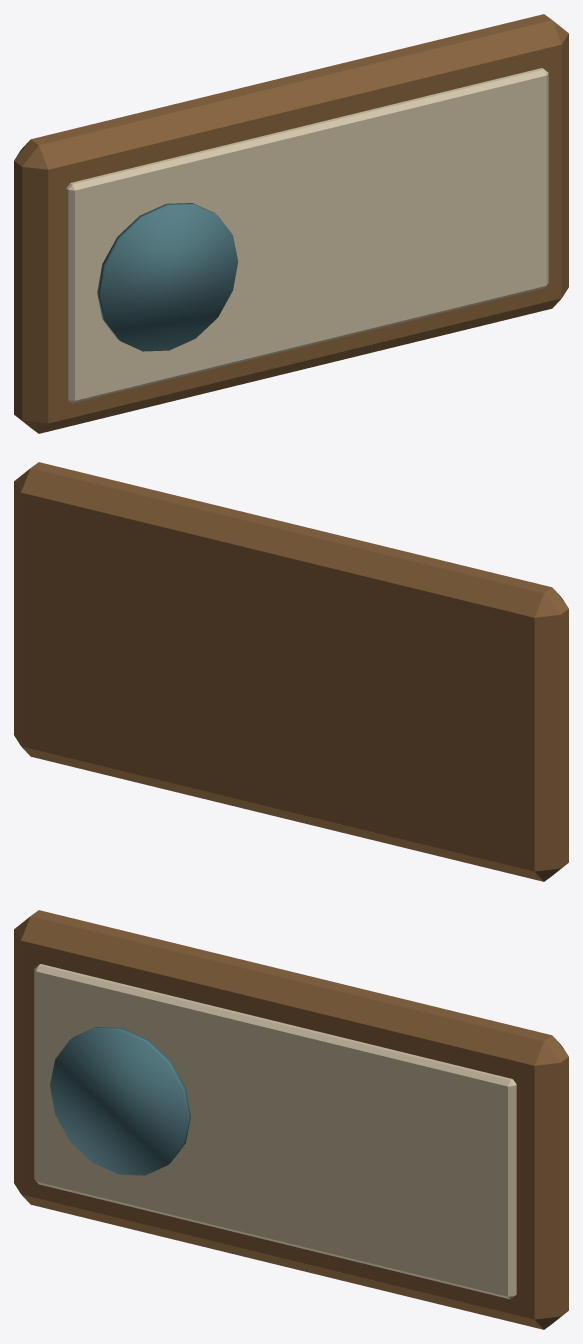
Rendered from sign_wall.glb.
The picture shows the model from 3 angles, top to bottom: view 1: azimuth 30°, elevation 25°; view 2: azimuth 150°, elevation 25°; view 3: azimuth 330°, elevation 25°; orthographic projection.
Visible parts, largest first — view 1: sign_wall; view 2: sign_wall; view 3: sign_wall.
Part boxes in pixels (x1,y1,x2,y2): sign_wall: [14, 14, 568, 433]; sign_wall: [14, 462, 568, 881]; sign_wall: [14, 910, 568, 1329].
Bounding box in the file's own units: 1.15 × 0.58 × 0.142.
